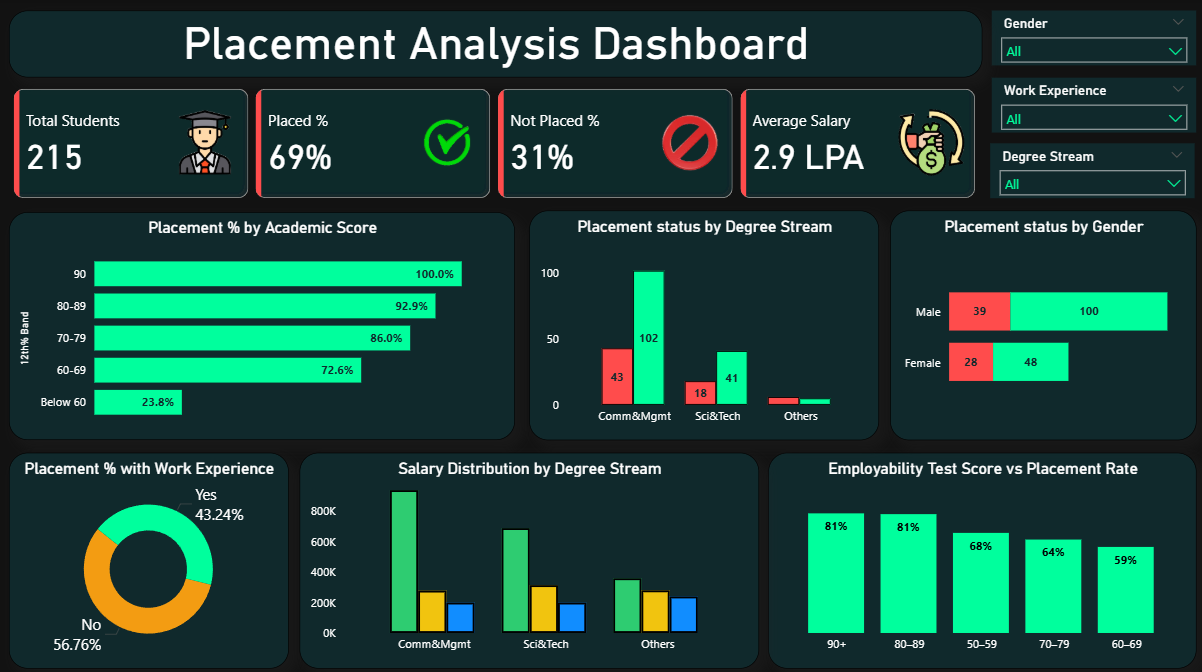

The dashboard page shown, as its layout file describes it:
{"tool":"powerbi","page":{"name":"Page 1","canvas":[1280,720],"ordinal":0},"visuals":[{"type":"cardVisual","fields":{"Data":["Placement_Data_Full_Class.Total_Students","Placement_Data_Full_Class.Placed %","Placement_Data_Full_Class.Not Placed %","Placement_Data_Full_Class.Avg Salary (LPA)"]},"box":[11.6,91.2,1033,126],"z":0},{"type":"barChart","title":"Placement % by Academic Score","fields":{"Category":["Placement_Data_Full_Class.10th% Band","Placement_Data_Full_Class.12th% Band","Placement_Data_Full_Class.Degree% Band","Placement_Data_Full_Class.MBA% Band"],"Y":["Placement_Data_Full_Class.Placed %"]},"box":[11.6,227.2,537.2,242.1],"z":1000},{"type":"clusteredColumnChart","title":"Employability Test Score vs Placement Rate","fields":{"Category":["Placement_Data_Full_Class.Employbility Test Bins"],"Y":["Placement_Data_Full_Class.Placed %"]},"box":[817.4,482.5,454.3,228.8],"z":2000},{"type":"clusteredColumnChart","title":"Placement status by Degree Stream","fields":{"Category":["Placement_Data_Full_Class.degree_stream"],"Y":["Placement_Data_Full_Class.Total_Students"],"Series":["Placement_Data_Full_Class.status"]},"box":[563.8,225.5,371.4,243.7],"z":3000},{"type":"donutChart","title":"Placement % with Work Experience","fields":{"Category":["Placement_Data_Full_Class.work_experience"],"Y":["Placement_Data_Full_Class.Placed Students"]},"box":[11.6,482.5,296.8,228.8],"z":4000},{"type":"barChart","title":" Placement status by Gender","fields":{"Category":["Placement_Data_Full_Class.gender"],"Series":["Placement_Data_Full_Class.status"],"Y":["CountNonNull(Placement_Data_Full_Class.status)"]},"box":[946.8,225.5,325,243.7],"z":5000},{"type":"clusteredColumnChart","title":"Salary Distribution by Degree Stream","fields":{"Category":["Placement_Data_Full_Class.degree_stream"],"Y":["Max(Placement_Data_Full_Class.salary)1","Avg(Placement_Data_Full_Class.salary)","Min(Placement_Data_Full_Class.salary)2"]},"box":[320,482.5,487.5,228.8],"z":6000},{"type":"slicer","fields":{"Values":["Placement_Data_Full_Class.gender"]},"box":[1054.5,13.3,217.2,58],"z":7000},{"type":"slicer","fields":{"Values":["Placement_Data_Full_Class.degree_stream"]},"box":[1052.9,154.2,217.2,58],"z":8000},{"type":"textbox","title":"Placement Analysis Dashboard","box":[11.6,13.3,1033,71.3],"z":9000},{"type":"slicer","fields":{"Values":["Placement_Data_Full_Class.work_experience"]},"box":[1054.5,84.6,217.2,58],"z":10000}]}

Visuals, with their boxes in screenshot pixels (x1, y1, x2, y2), scaled from the page's 1280x720 canvas onto the 1202x672 screenshot:
cardVisual - Placement_Data_Full_Class.Total_Students x Placement_Data_Full_Class.Placed %: Rect(11, 85, 981, 203)
"Placement % by Academic Score" barChart: Rect(11, 212, 515, 438)
"Employability Test Score vs Placement Rate" clusteredColumnChart: Rect(768, 450, 1194, 664)
"Placement status by Degree Stream" clusteredColumnChart: Rect(529, 210, 878, 438)
"Placement % with Work Experience" donutChart: Rect(11, 450, 290, 664)
" Placement status by Gender" barChart: Rect(889, 210, 1194, 438)
"Salary Distribution by Degree Stream" clusteredColumnChart: Rect(300, 450, 758, 664)
slicer - Placement_Data_Full_Class.gender: Rect(990, 12, 1194, 67)
slicer - Placement_Data_Full_Class.degree_stream: Rect(989, 144, 1193, 198)
"Placement Analysis Dashboard" textbox: Rect(11, 12, 981, 79)
slicer - Placement_Data_Full_Class.work_experience: Rect(990, 79, 1194, 133)
